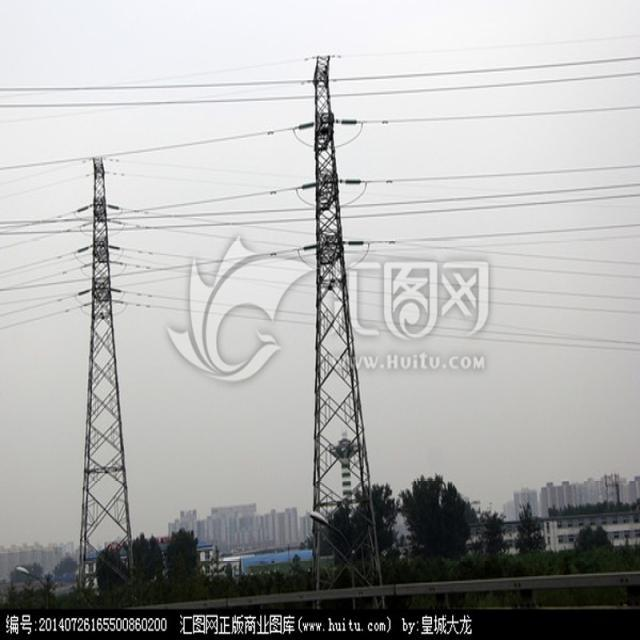non-critical vegetation: (274, 46, 404, 597), (63, 150, 142, 598)
